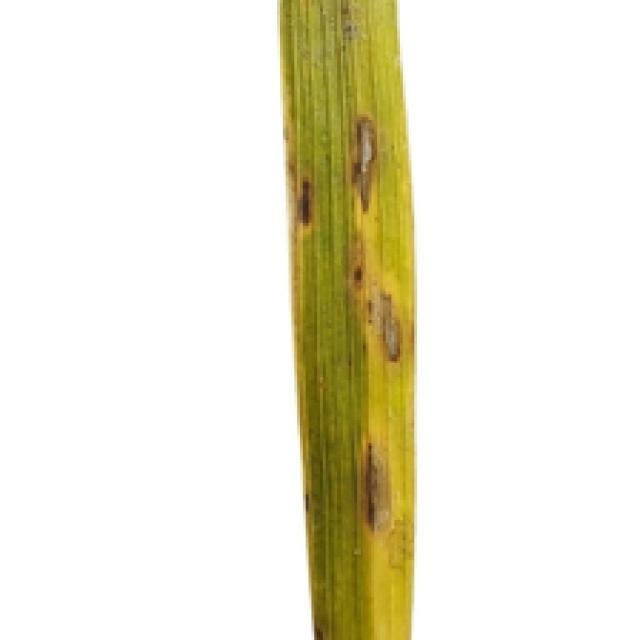Rice___Rice_Blast: (278, 0, 416, 637)
